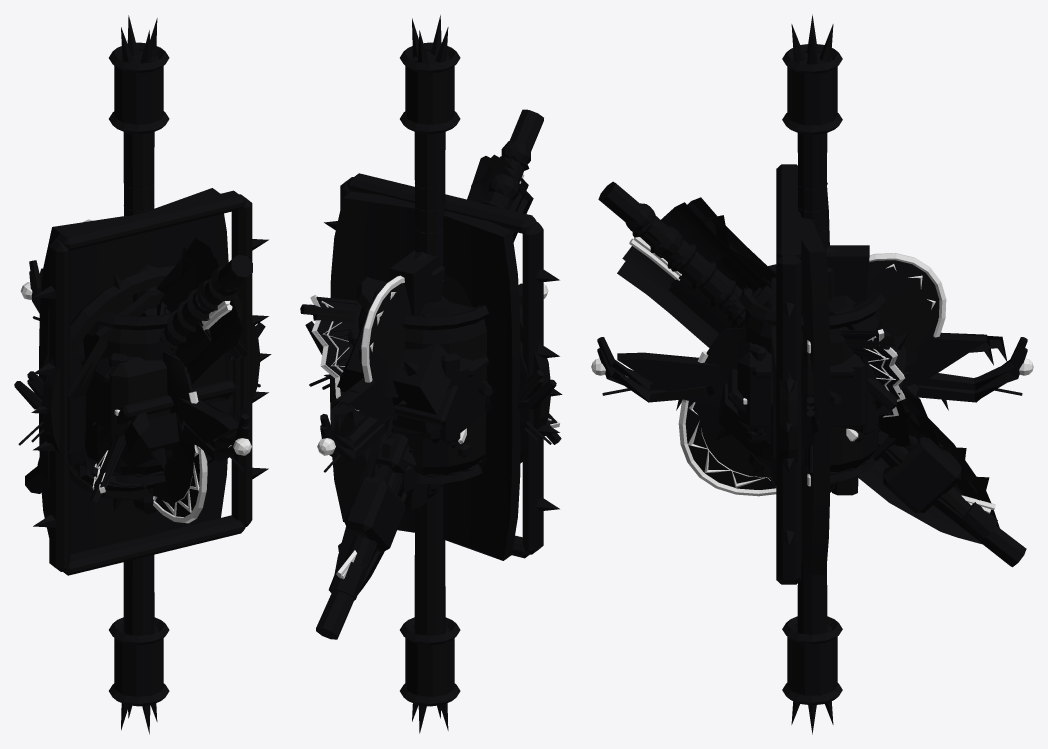
The model's file is Weapons.fbx.
3 views of the same model, side by side, from view 1: azimuth 30°, elevation 25°; view 2: azimuth 150°, elevation 25°; view 3: azimuth 270°, elevation 25° (orthographic).
Parts seen in each view (by area): view 1: W23_Rails, W23_Slab, W16_Caps_B, W22_Rim_B, W16_Staff_B, W12_Head_B, W03_FistL_J, W30_Sleeve, W24_ShieldRim_B, W13_Head_B, W24_ShieldRim, W11_Blade (+27 smaller); view 2: W23_Slab, W23_Rails, W16_Caps_B, W16_Staff_B, W30_Sleeve, W13_Head_B, W12_Wrap, W30_Fittings, W12_Head_B, W15_Shaft, W27_Stock, W15_Blade_B (+27 smaller); view 3: W12_Head_B, W23_Rails, W23_Slab, W16_Caps_B, W12_Wrap, W11_Blade_B, W16_Staff_B, W11_Blade, W30_Sleeve, W15_Blade_B, W28_Limbs_B, W15_Shaft (+22 smaller).
Boxes of the visible parts, left/top/right/bottom form: W23_Rails: left=49, top=190, right=252, bottom=575; W23_Slab: left=39, top=188, right=228, bottom=554; W16_Caps_B: left=109, top=42, right=169, bottom=706; W22_Rim_B: left=41, top=265, right=260, bottom=500; W16_Staff_B: left=123, top=132, right=154, bottom=635; W12_Head_B: left=152, top=350, right=199, bottom=517; W03_FistL_J: left=86, top=350, right=229, bottom=411; W30_Sleeve: left=83, top=324, right=166, bottom=475; W24_ShieldRim_B: left=67, top=288, right=248, bottom=486; W13_Head_B: left=107, top=397, right=233, bottom=474; W24_ShieldRim: left=77, top=293, right=240, bottom=485; W11_Blade: left=157, top=248, right=237, bottom=371; W23_Slab: left=330, top=191, right=520, bottom=560; W23_Rails: left=340, top=173, right=543, bottom=558; W16_Caps_B: left=400, top=42, right=460, bottom=706; W16_Staff_B: left=414, top=132, right=445, bottom=635; W30_Sleeve: left=358, top=307, right=486, bottom=475; W13_Head_B: left=335, top=289, right=474, bottom=414; W12_Wrap: left=344, top=191, right=512, bottom=552; W30_Fittings: left=347, top=276, right=489, bottom=476; W12_Head_B: left=369, top=283, right=411, bottom=436; W15_Shaft: left=316, top=109, right=543, bottom=639; W27_Stock: left=389, top=250, right=439, bottom=315; W15_Blade_B: left=330, top=283, right=522, bottom=431; W12_Head_B: left=685, top=260, right=939, bottom=489; W23_Rails: left=776, top=164, right=801, bottom=584; W23_Slab: left=800, top=188, right=830, bottom=574; W16_Caps_B: left=782, top=44, right=842, bottom=705; W12_Wrap: left=666, top=239, right=961, bottom=513; W11_Blade_B: left=617, top=197, right=999, bottom=544; W16_Staff_B: left=797, top=133, right=827, bottom=634; W11_Blade: left=622, top=202, right=979, bottom=532; W30_Sleeve: left=743, top=309, right=881, bottom=472; W15_Blade_B: left=617, top=332, right=1007, bottom=407; W28_Limbs_B: left=597, top=350, right=1027, bottom=402; W15_Shaft: left=598, top=181, right=1026, bottom=567.
Bounding box in the file's own units: 2.75 × 7.4 × 4.22.
Materials: 37 (36 with a texture image).
